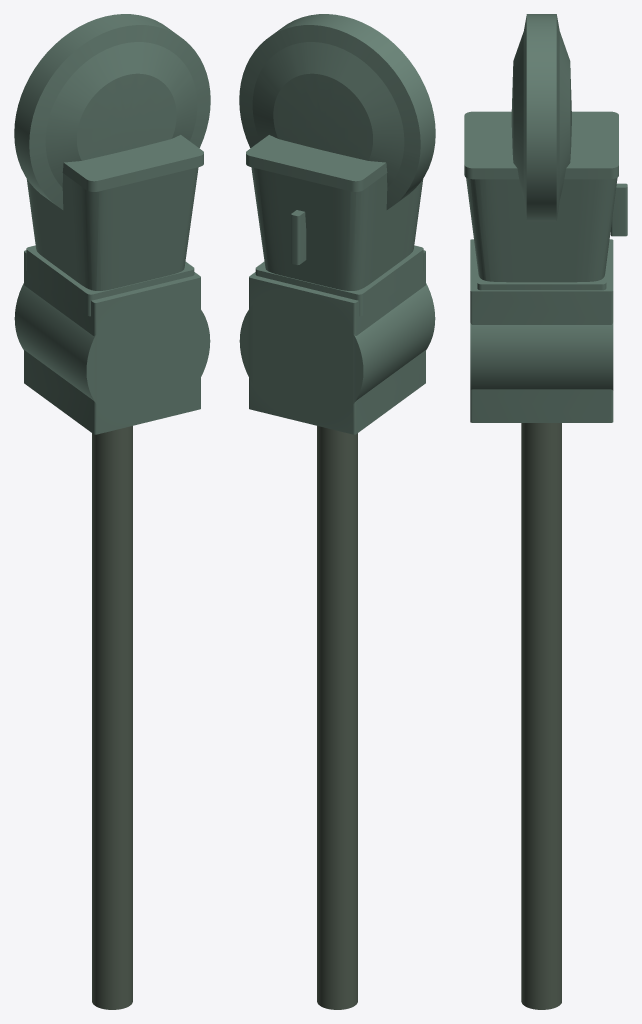
The picture shows the model from 3 angles, left to right: view 1: azimuth 30°, elevation 25°; view 2: azimuth 150°, elevation 25°; view 3: azimuth 270°, elevation 25°; orthographic projection.
Parts seen in each view (by area): view 1: dial, post, base, body; view 2: dial, post, base, body; view 3: post, body, base, dial.
Part boxes in pixels (box(x1,y1,x2,y2)): dial: box(14, 14, 210, 209); post: box(92, 426, 132, 1009); base: box(14, 250, 210, 434); body: box(26, 135, 203, 316); dial: box(239, 14, 435, 209); post: box(317, 426, 357, 1009); base: box(239, 250, 435, 434); body: box(246, 135, 423, 316); post: box(521, 423, 561, 1009); body: box(464, 111, 627, 290); base: box(470, 239, 613, 422); dial: box(511, 14, 571, 221).
Size of the model in its own units: 0.349 by 1.8 by 0.272.
